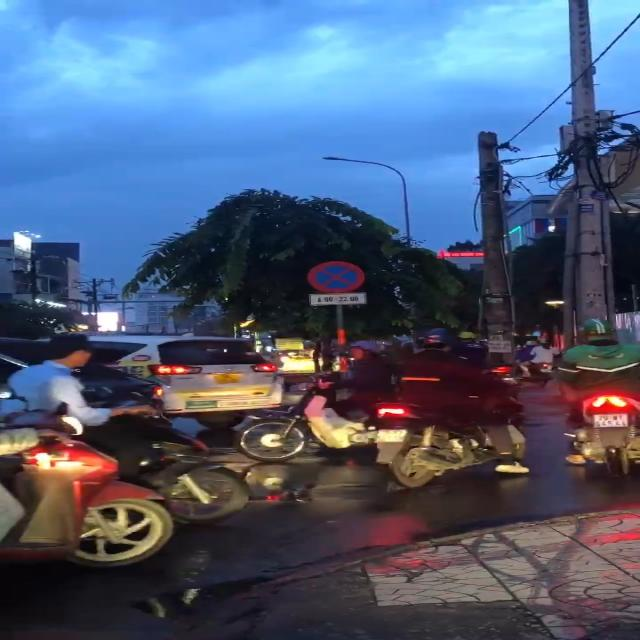Bien bao cam dung xe va do xe: (305, 258, 369, 294)
